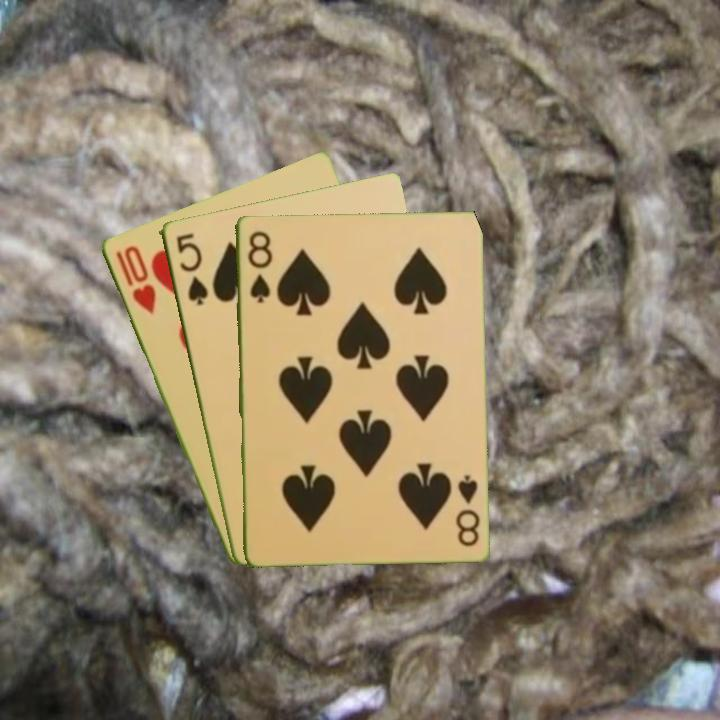10h: (111, 242, 159, 317)
5s: (172, 229, 211, 308)
8s: (243, 227, 274, 305), (451, 471, 482, 549)
